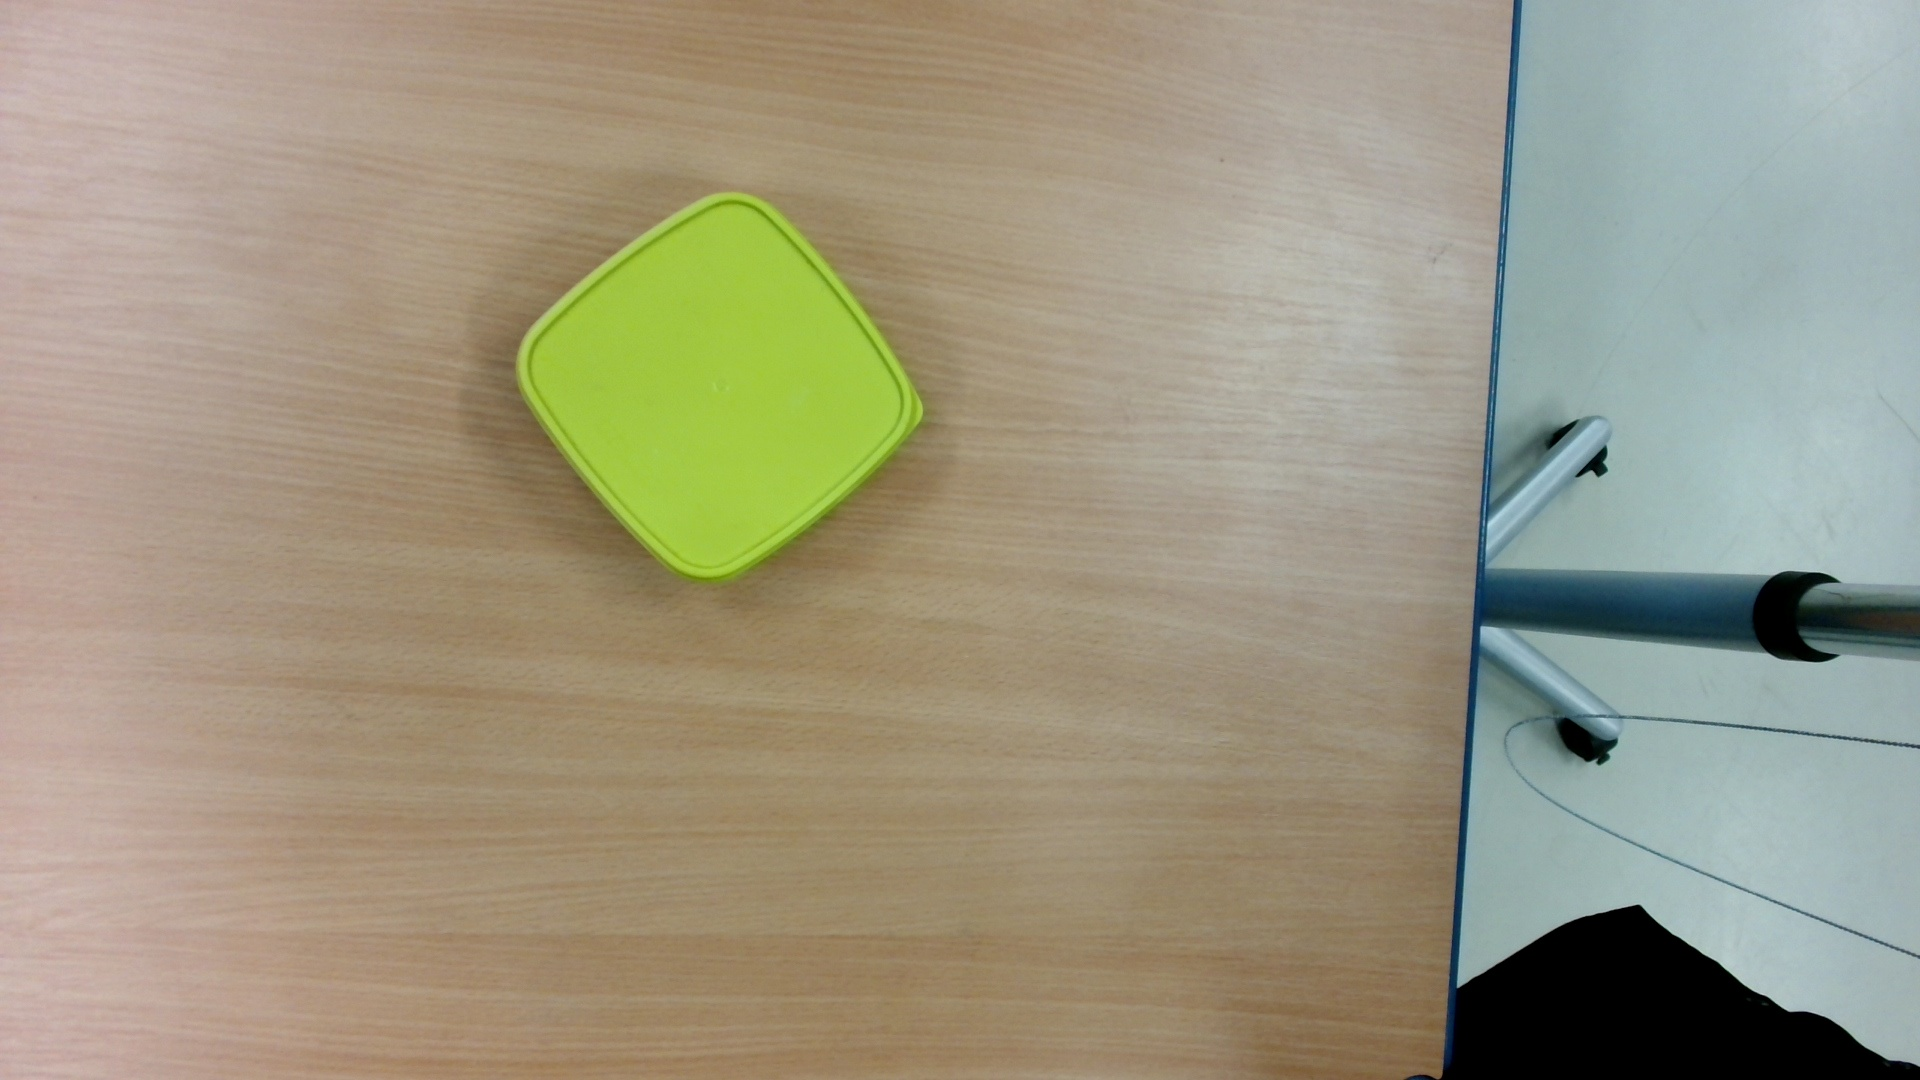Box: (508, 183, 935, 597)
